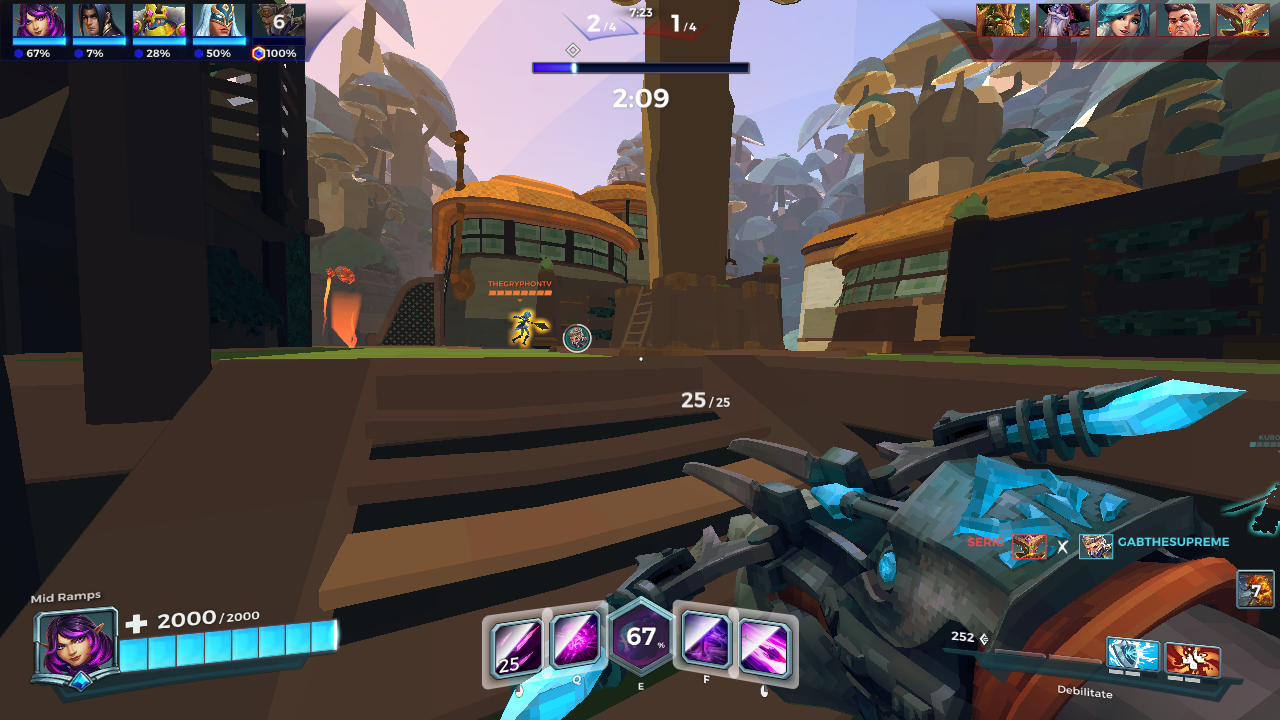model: (512, 306, 536, 346)
